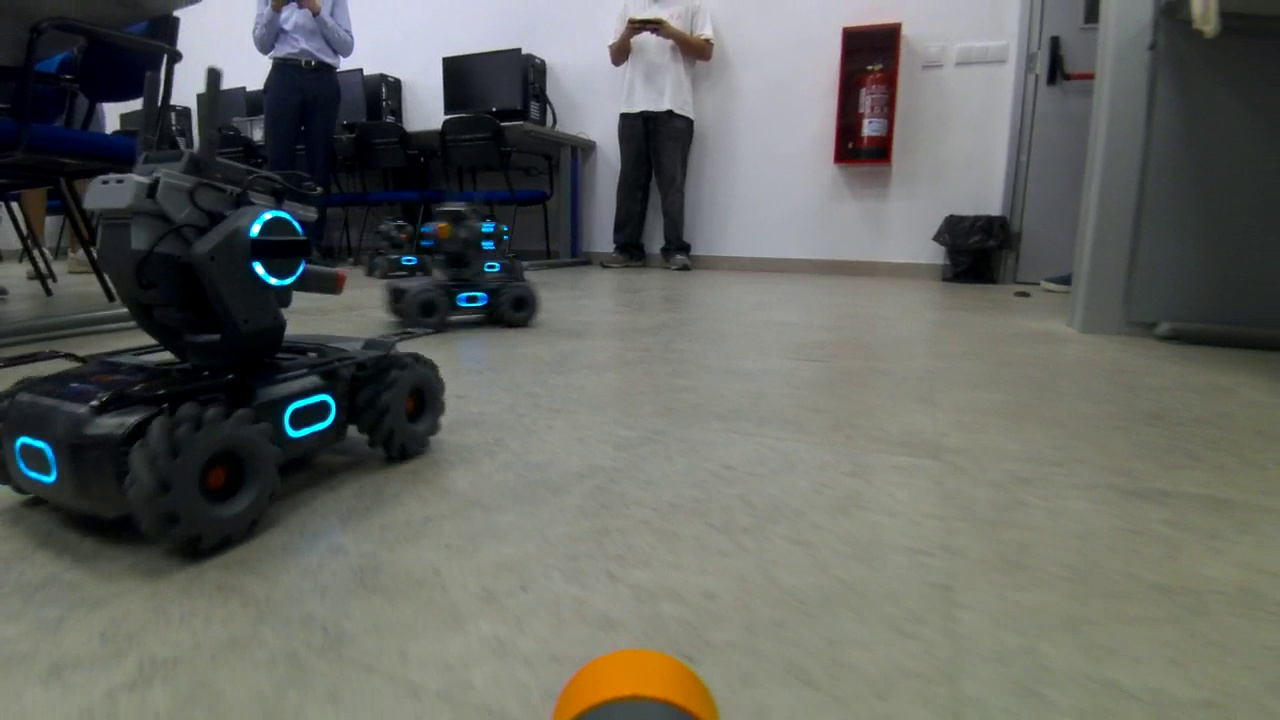robot: (1, 153, 446, 557), (370, 191, 558, 334)
